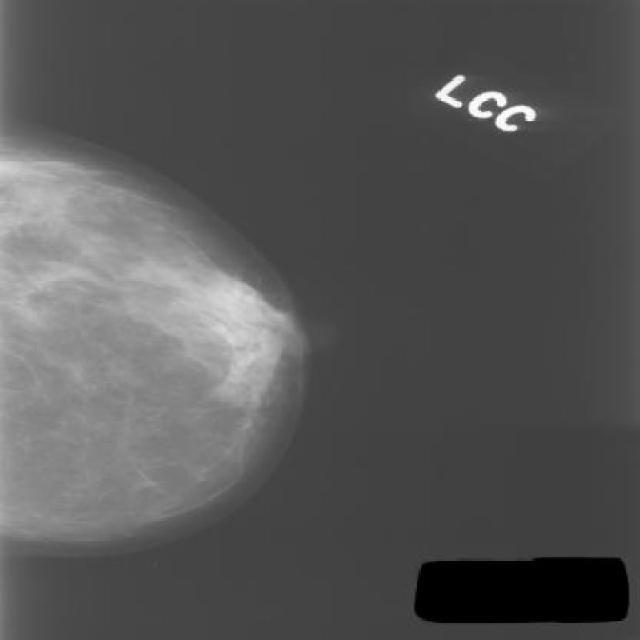tumor: (12, 164, 340, 454)
